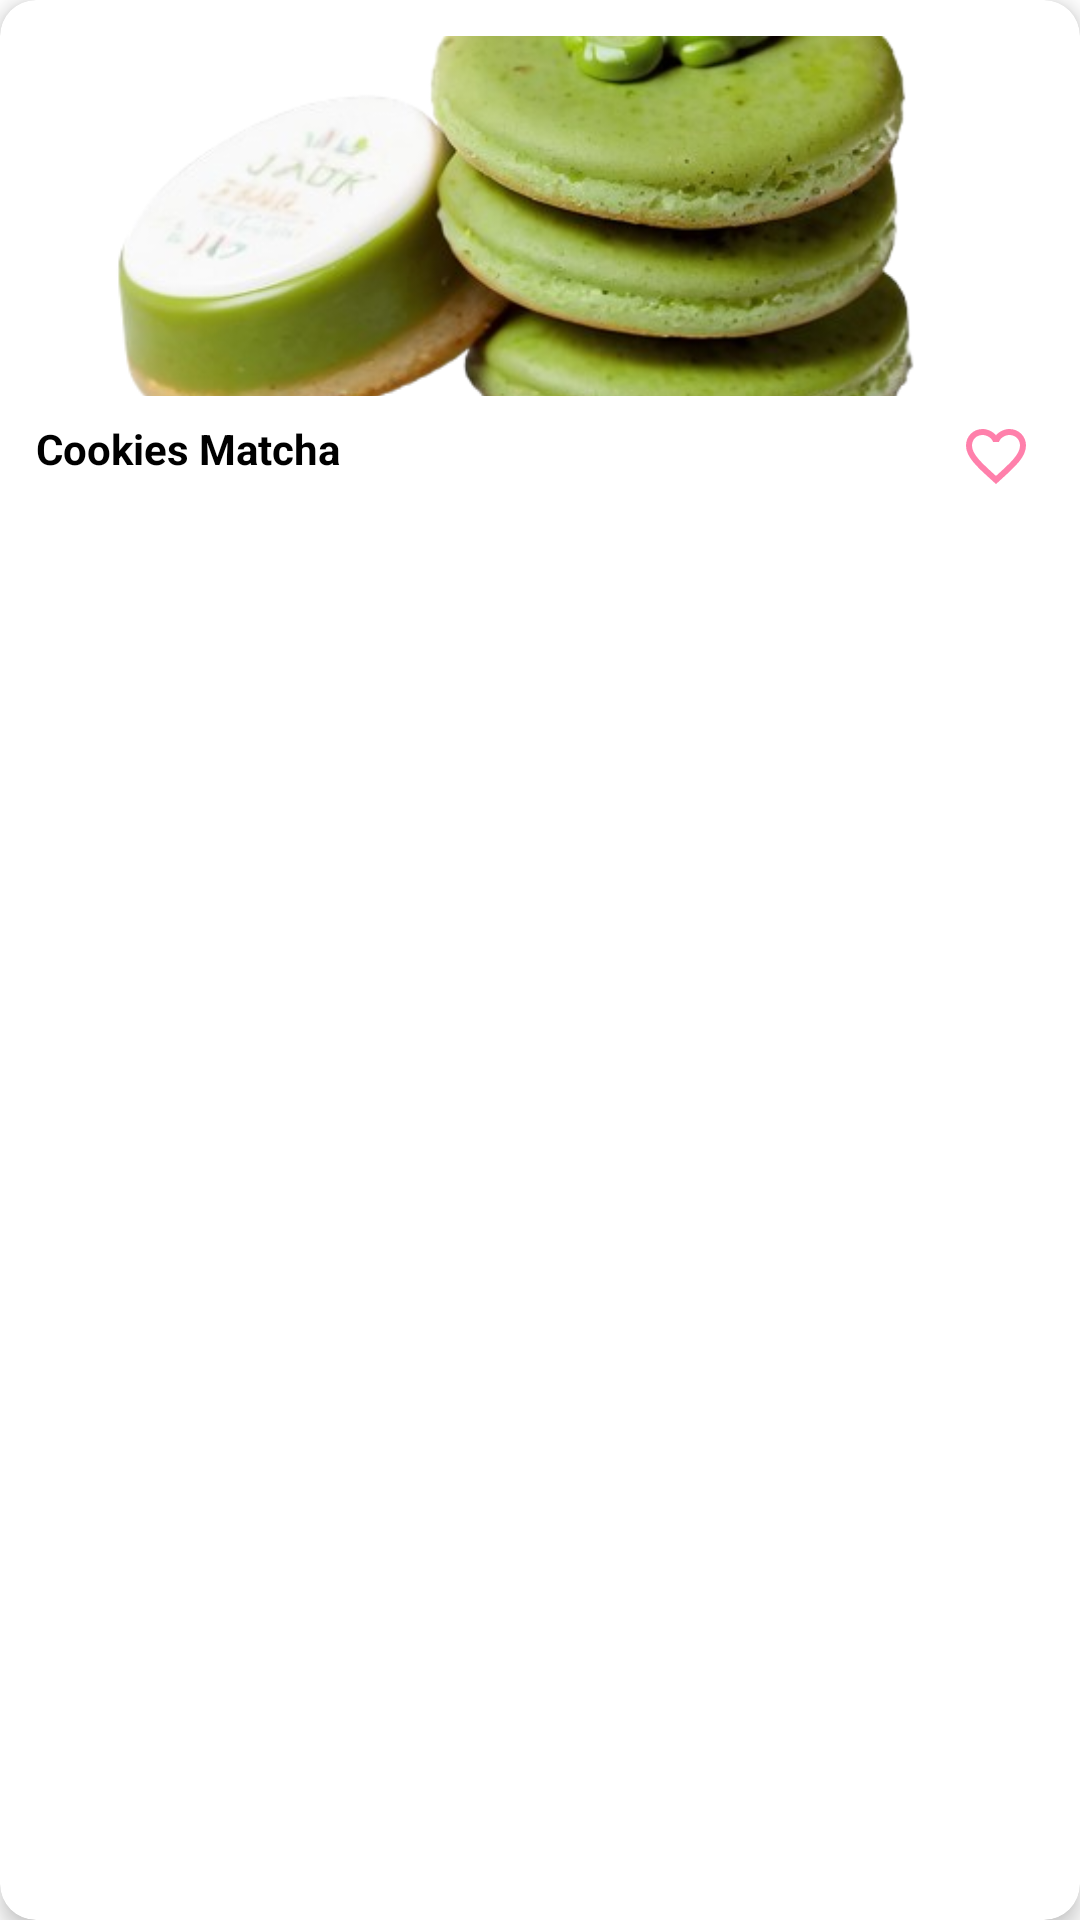

Locate icon controls on the screen. Image size 1080 x 1920, boxes as (x1, y1, x2, y2).
Like: (966, 429, 1026, 484)
